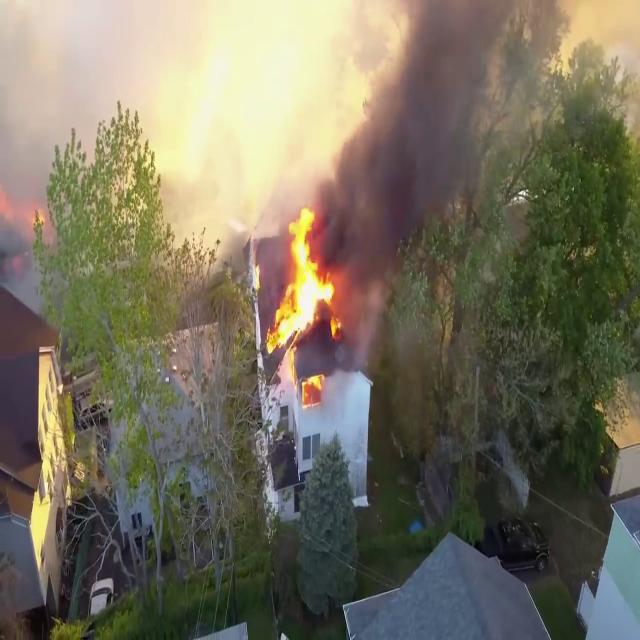Fire: (267, 202, 343, 364)
Smoke: (319, 1, 509, 352)
